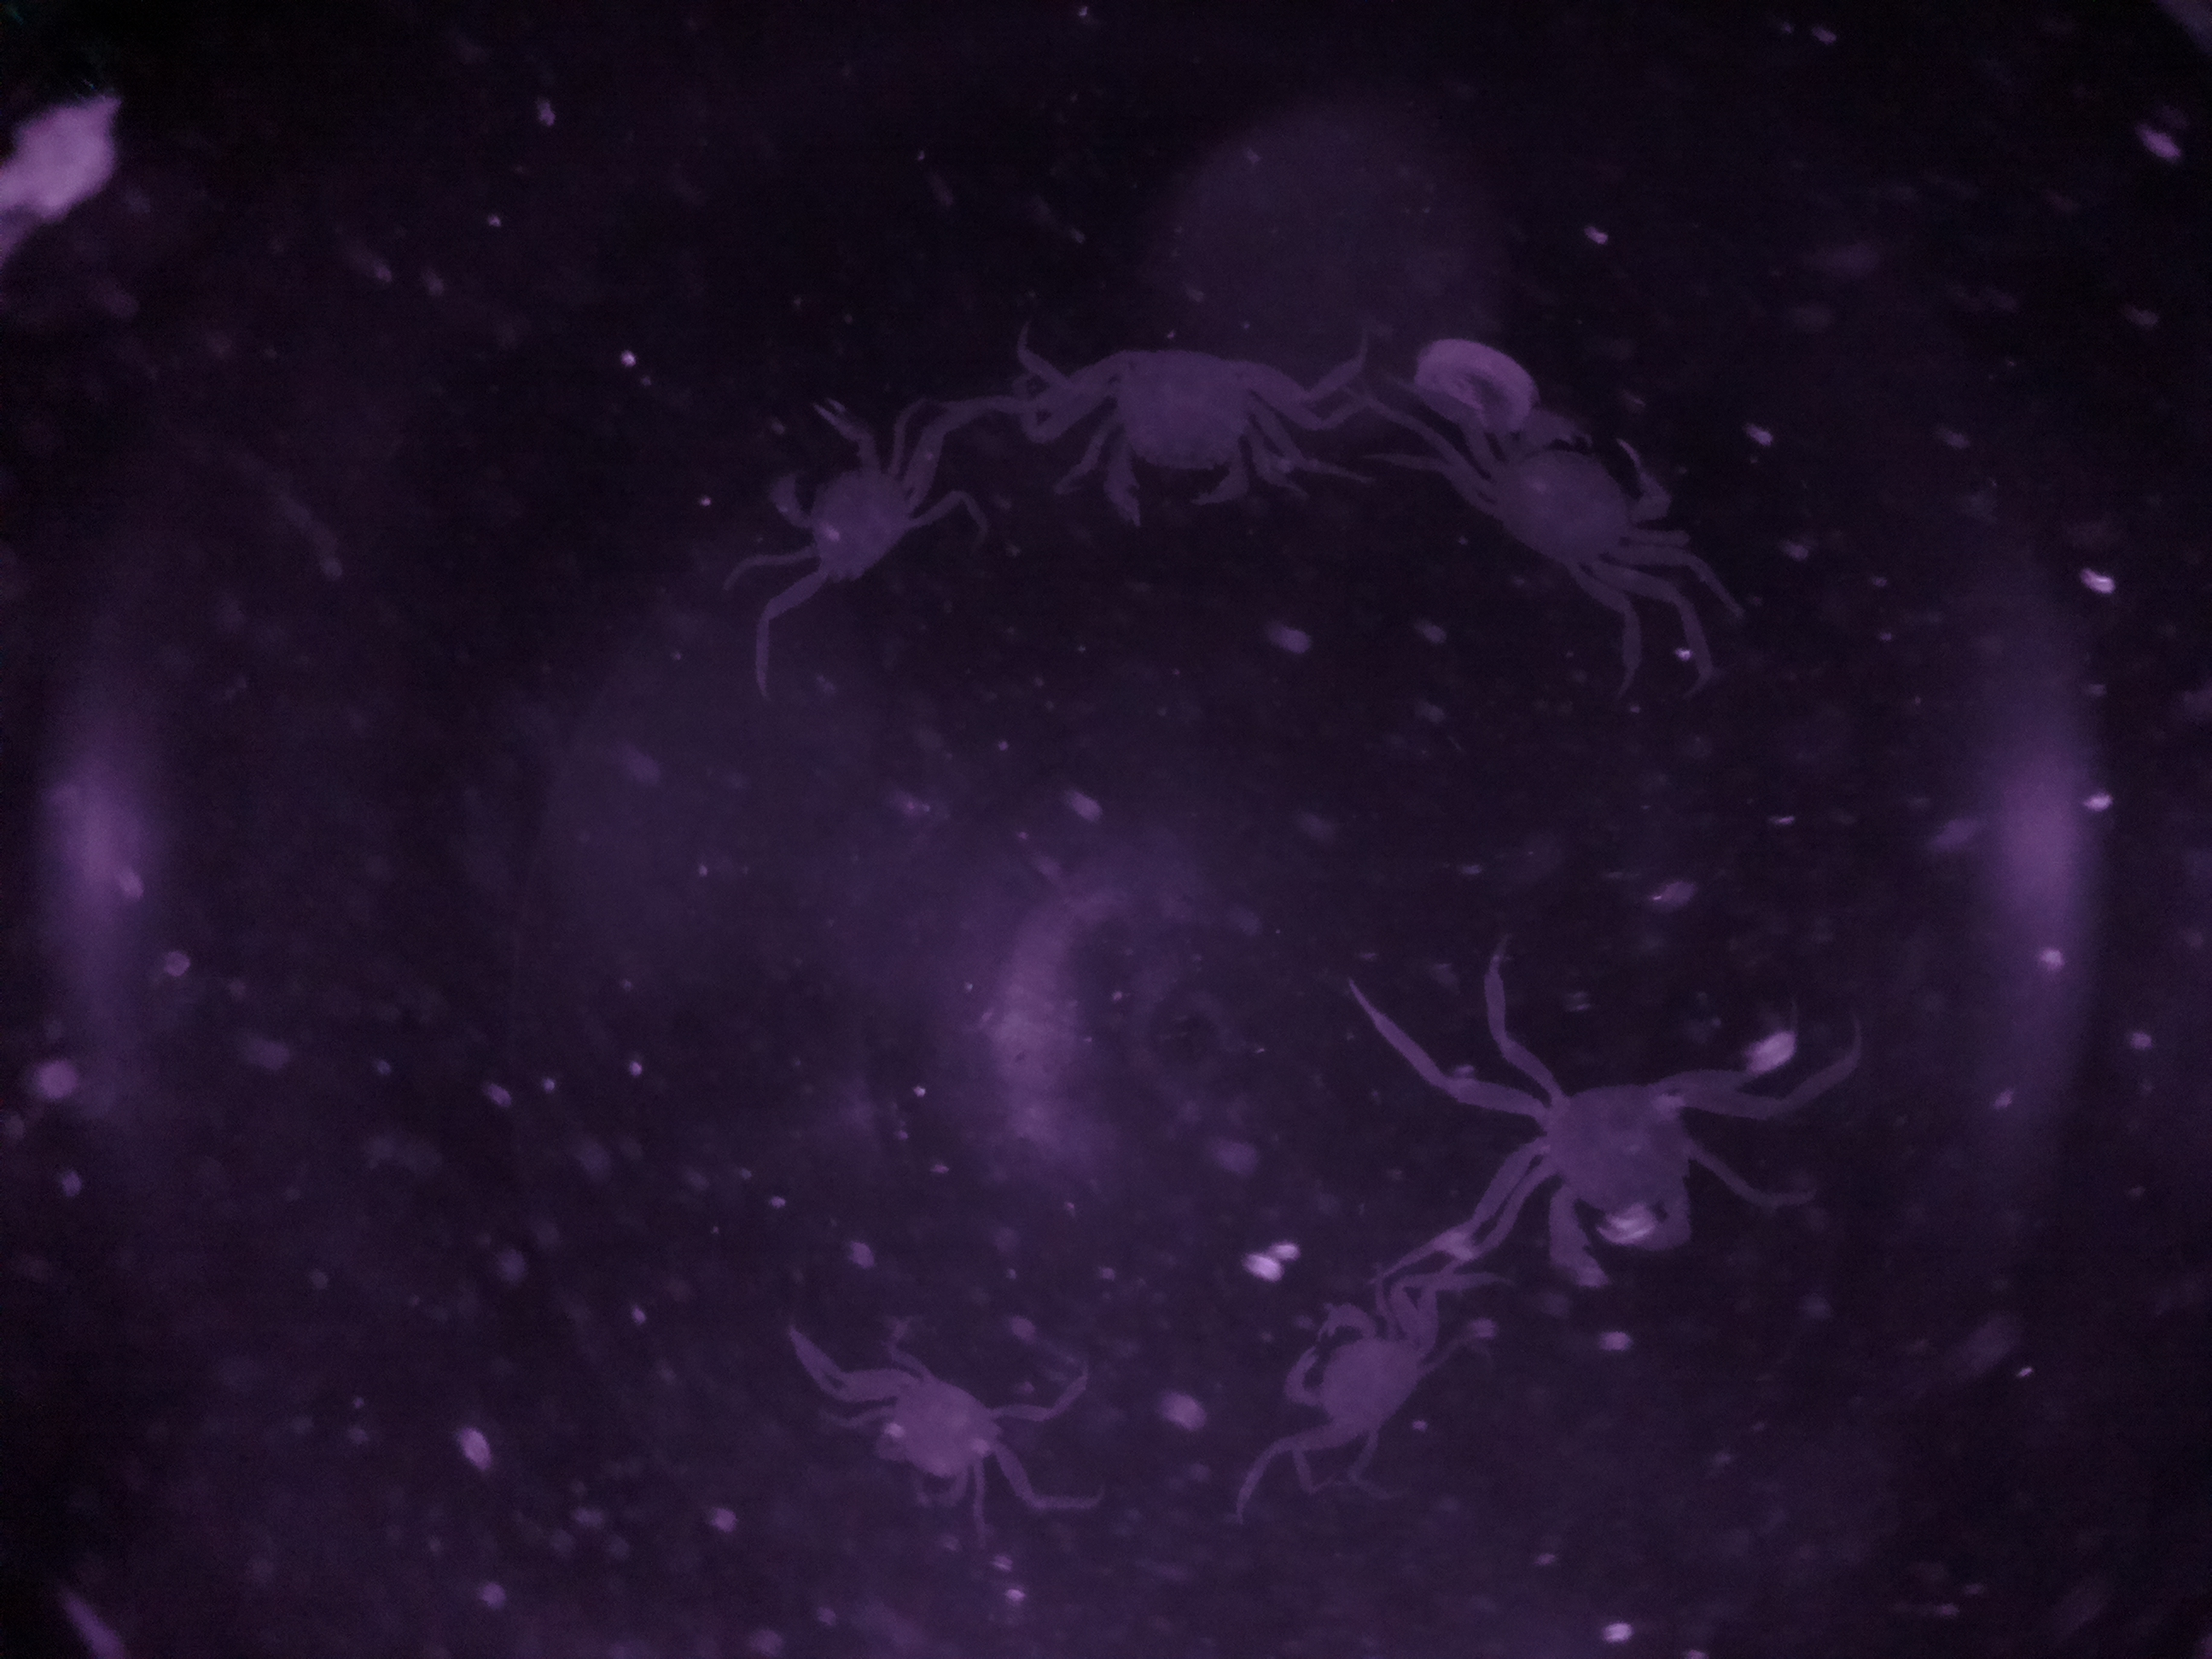Crab: (1461, 1032, 1759, 1326), (1045, 310, 1352, 561), (1402, 373, 1689, 622), (733, 387, 979, 622), (1212, 1270, 1446, 1493), (801, 1328, 1026, 1532)
